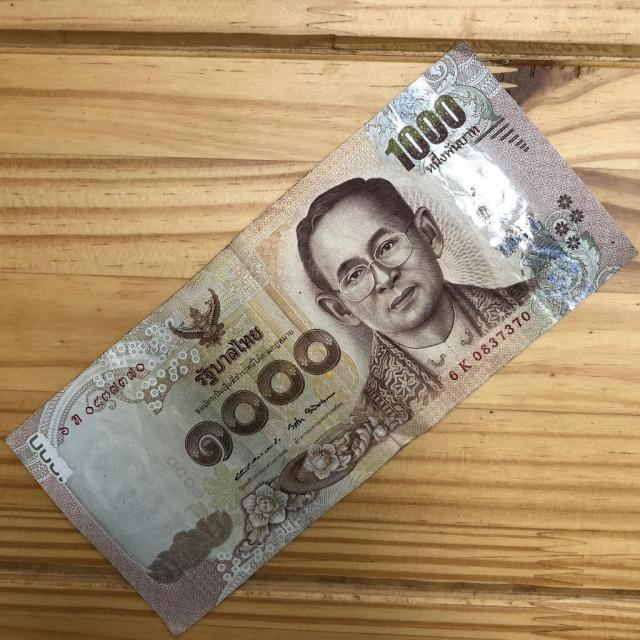THAI1000: (8, 43, 636, 638)
